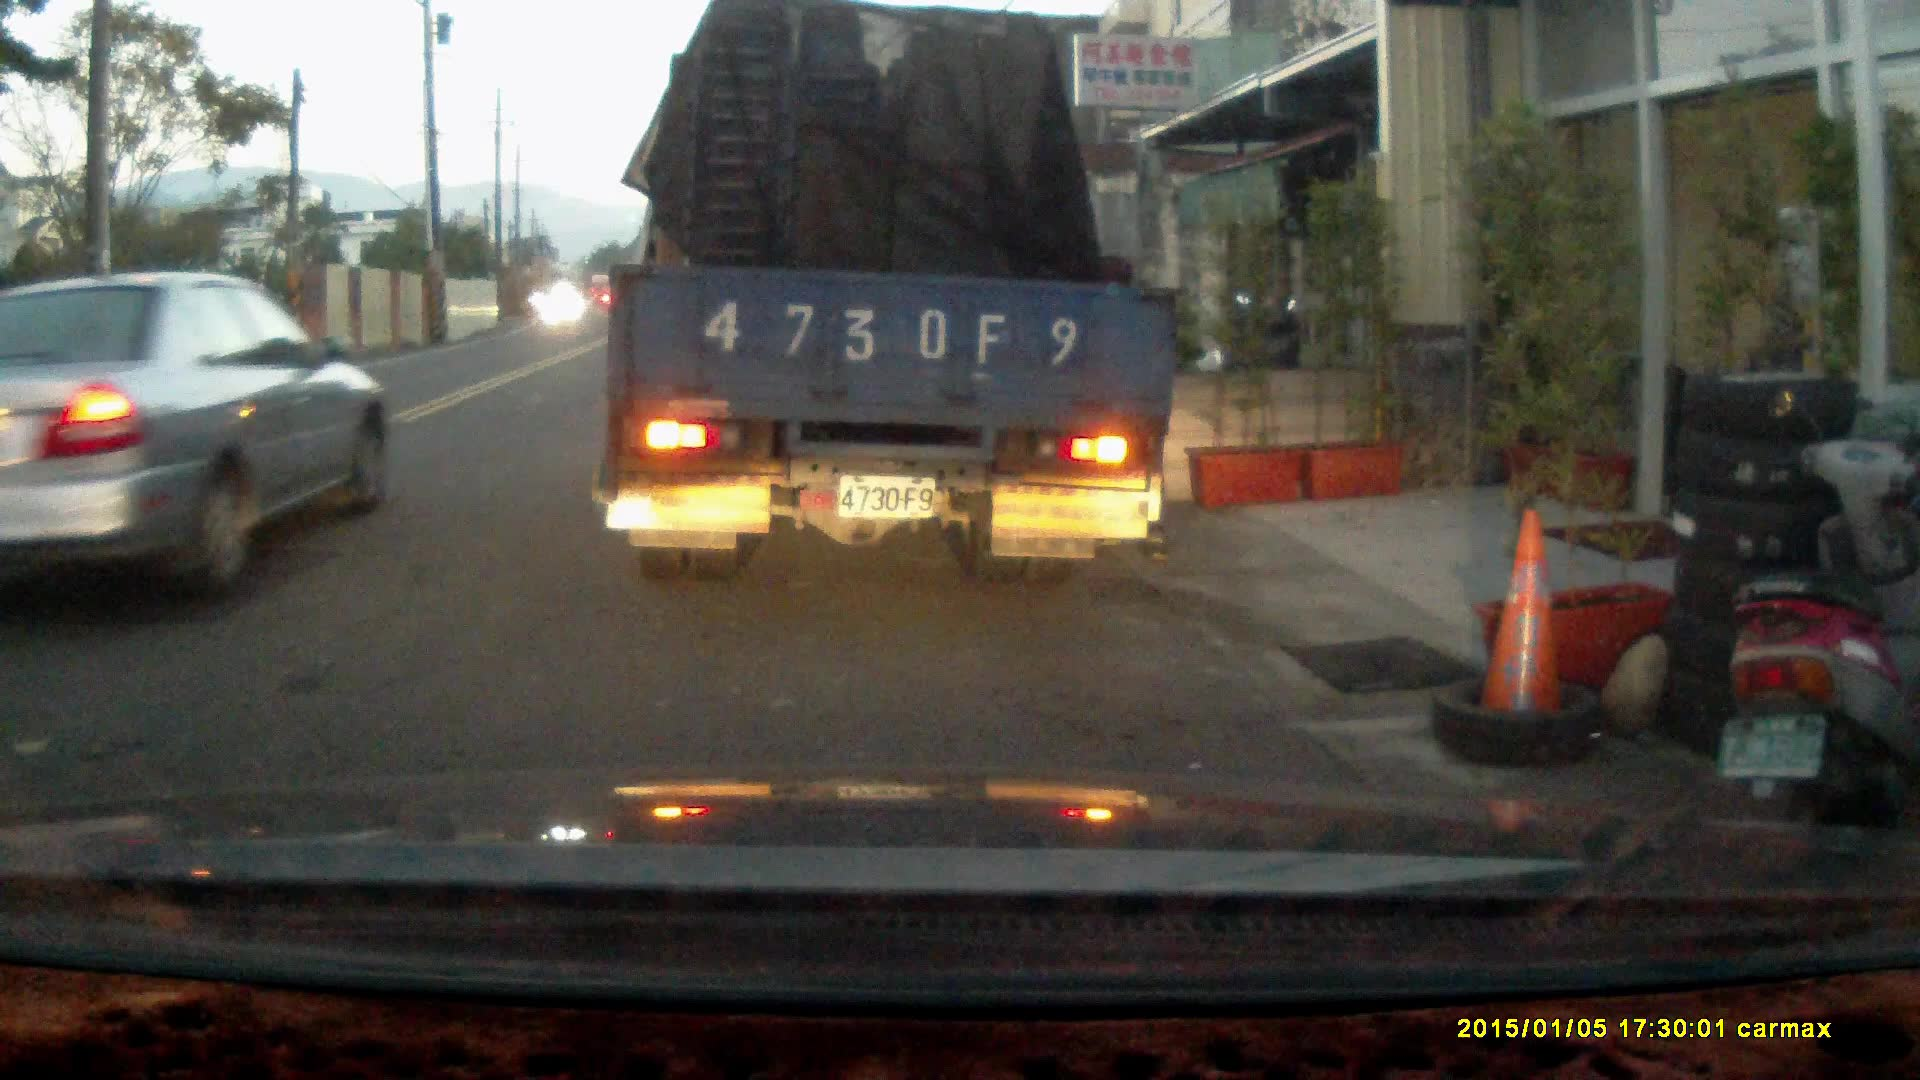pedestrian: (1742, 226, 1830, 476)
vehicle: (605, 23, 1188, 572), (1, 275, 393, 599)
